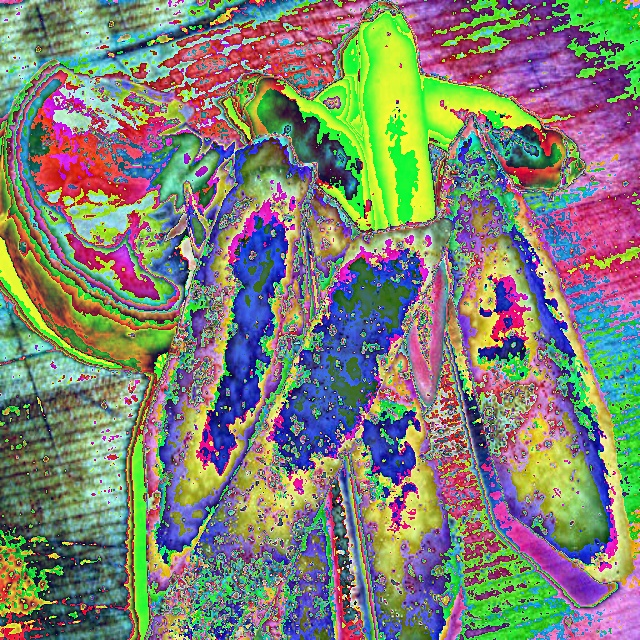background: (0, 0, 632, 640)
